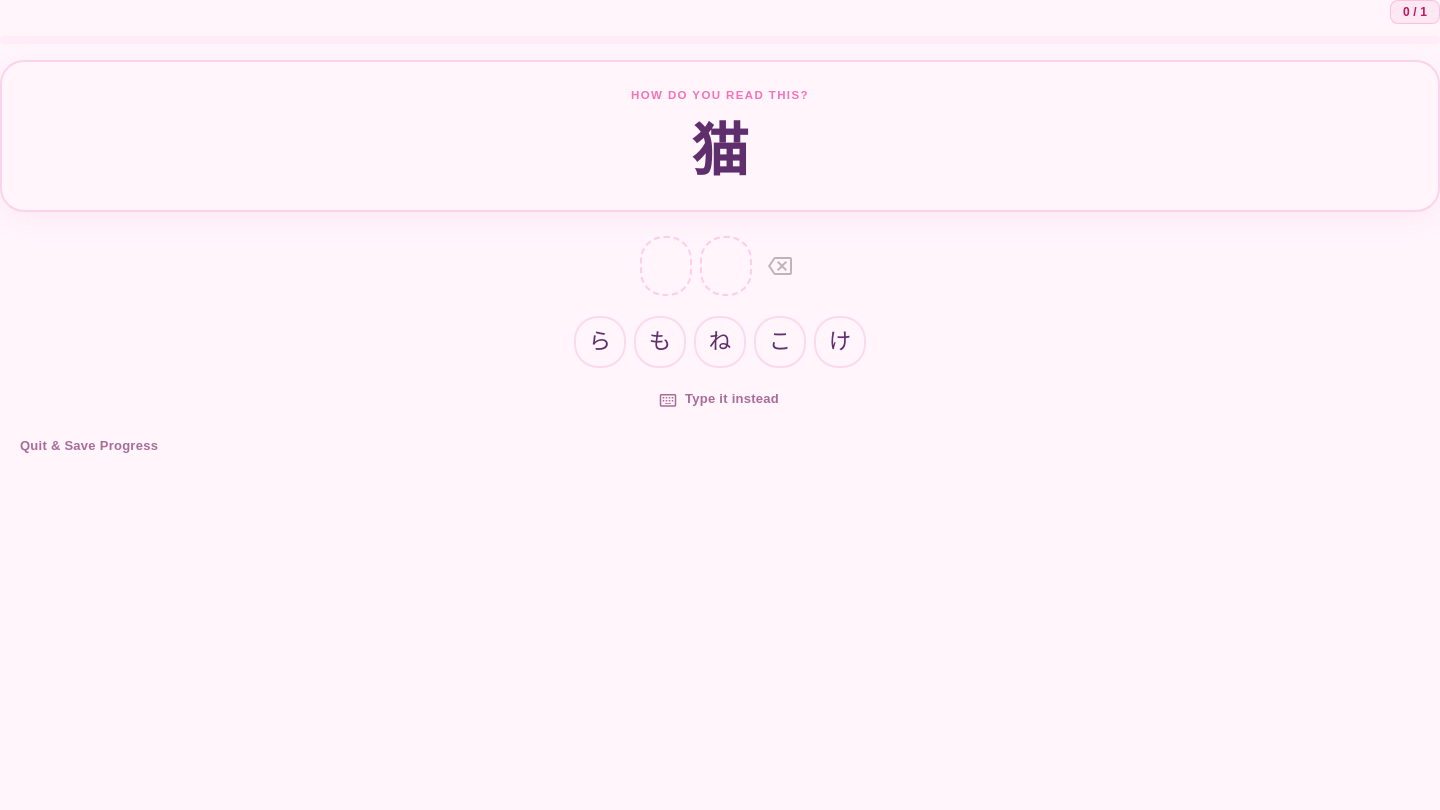
ReadingMode › takes tiles back with backspace
Expected: the text "猫" is shown, [691,120,749,183]
Click the button named "Add こ": coordinates (780, 342) [754,316,806,368]
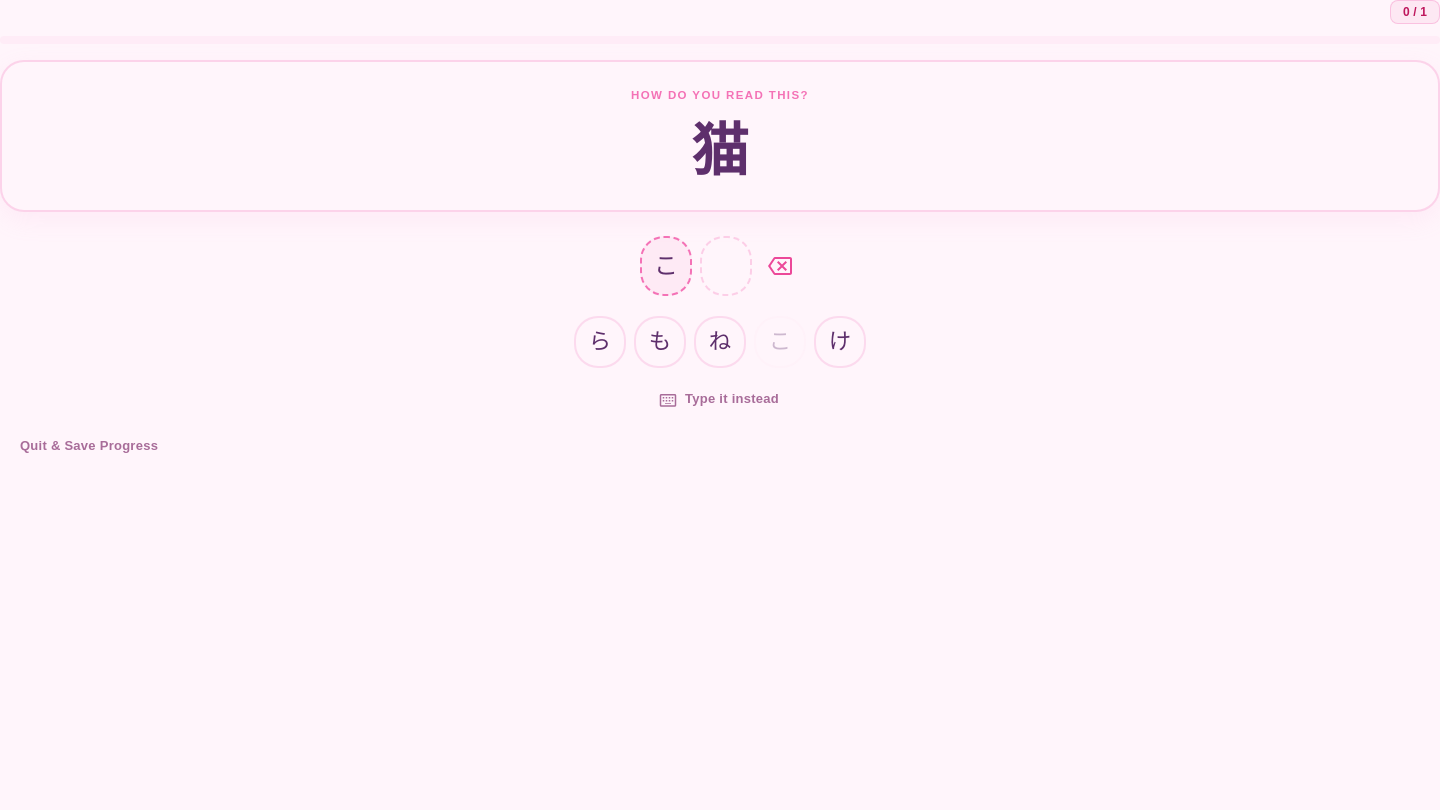
Click the button named "Remove the last character": coordinates (780, 266) [760,246,800,286]
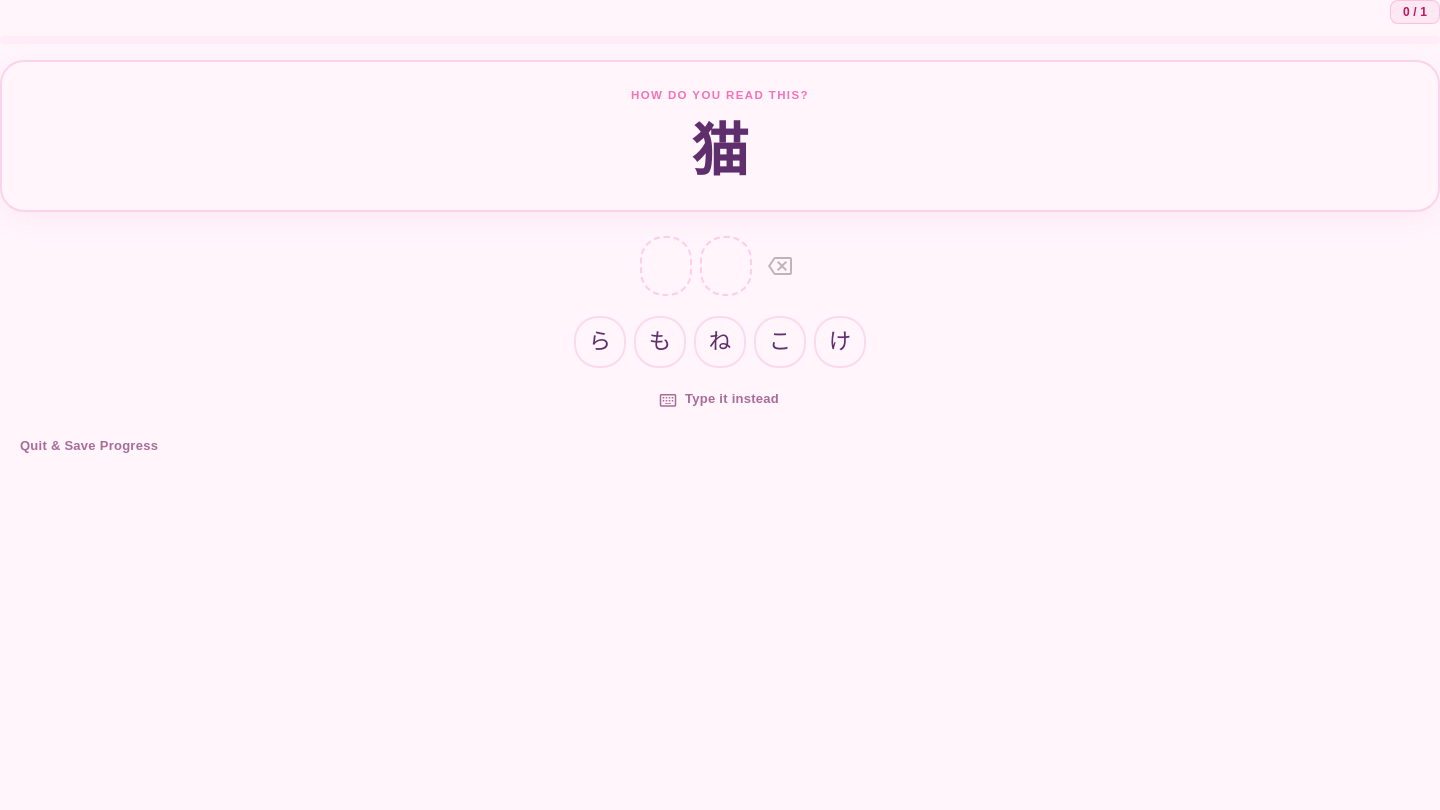
# With the slot cleared, the right order still grades as correct.
Click the button named "Add ね": coordinates (720, 342) [694,316,746,368]
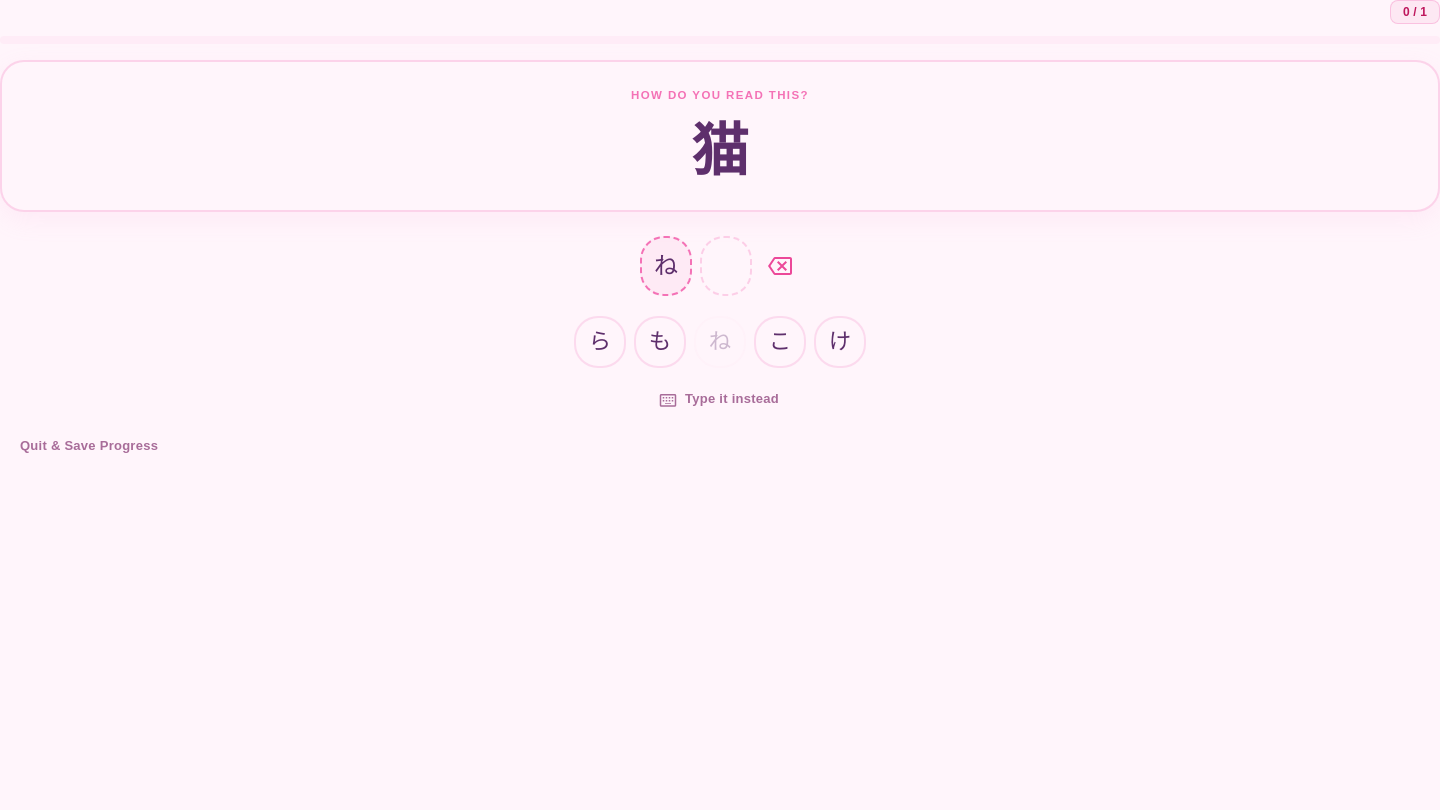
Click the button named "Add こ": coordinates (780, 342) [754,316,806,368]
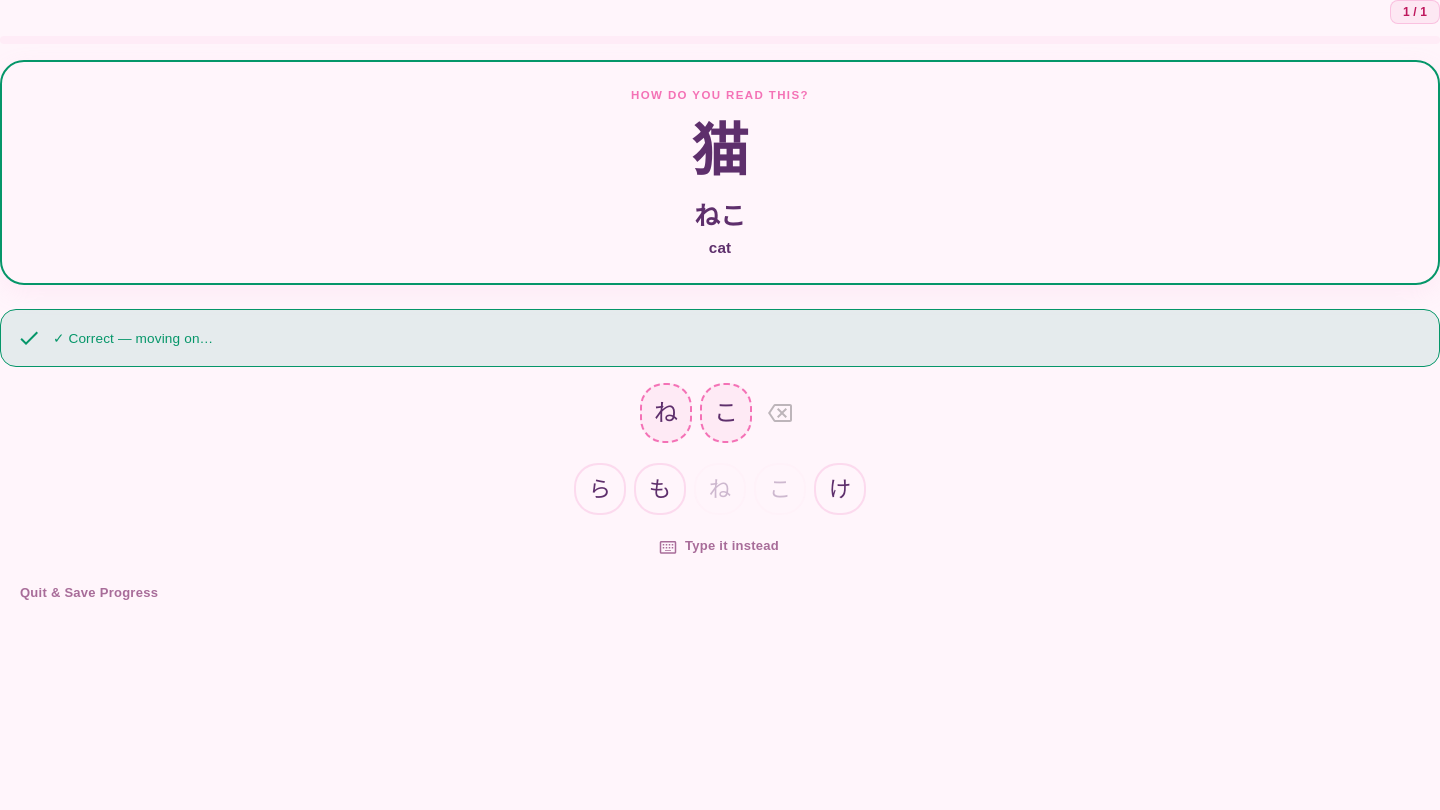
Expected: the text "✓ Correct — moving on…" is shown, [53,331,213,346]
